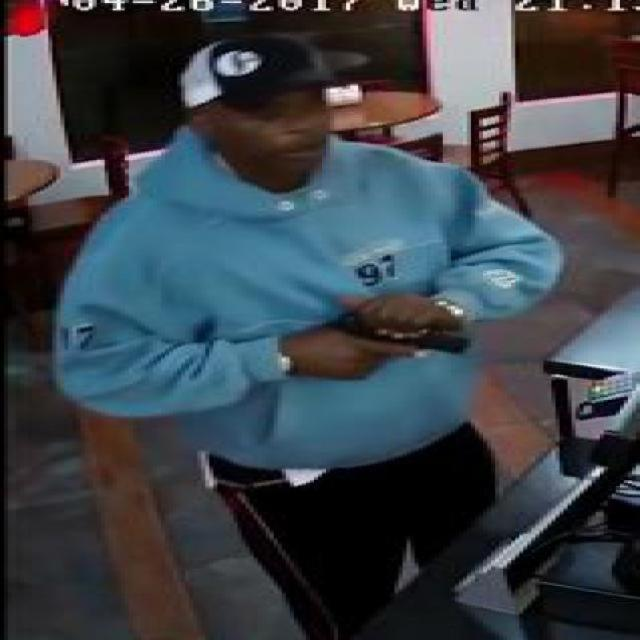pistol: (310, 311, 471, 378)
